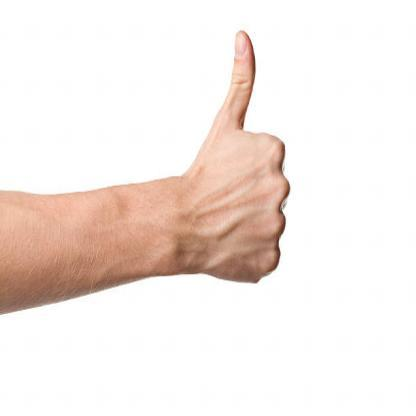thumb_up: (182, 27, 291, 288)
